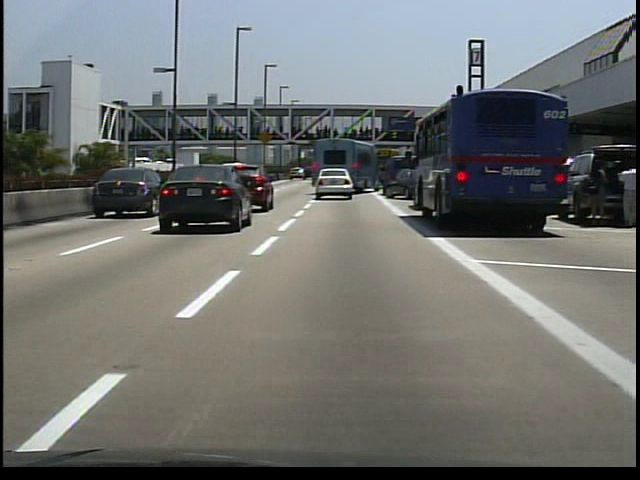person: (579, 156, 609, 226), (612, 159, 638, 227)
